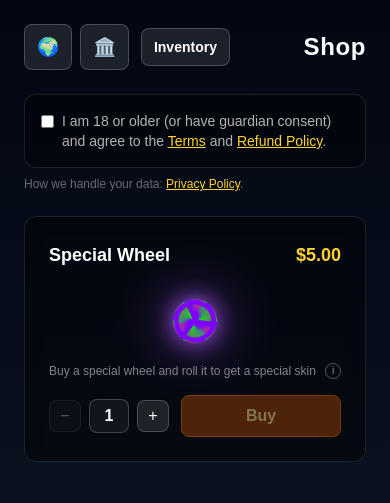
ShopPage › lets the wheel quantity be typed directly into the field, clamped 1..300
The width and height of the screenshot is (390, 503).
Replace the text in the field named "Quantity" with "7" at (109, 416), box [89,399,129,433]
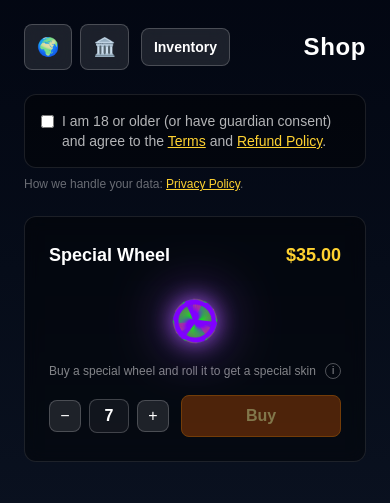
Expected: the text "$35.00" is shown, [286,241,341,269]
Replace the text in the field named "Quantity" with "750" at (109, 416), box [89,399,129,433]
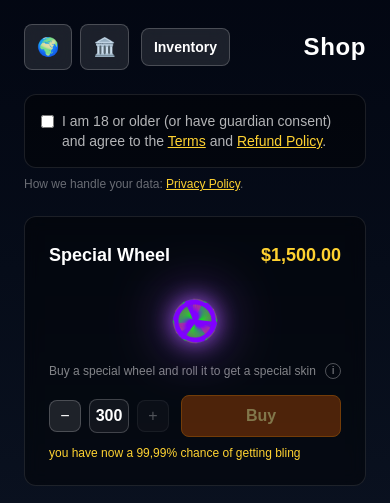
Expected: the field named "Quantity" holds "300"
Replace the text in the field named "Quantity" with "abc" at (109, 416), box [89,399,129,433]
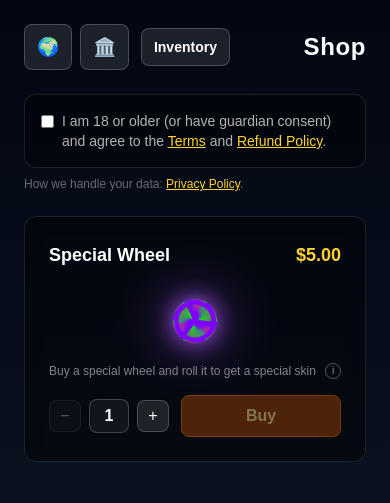
Expected: the field named "Quantity" holds "1", [89,399,129,433]
